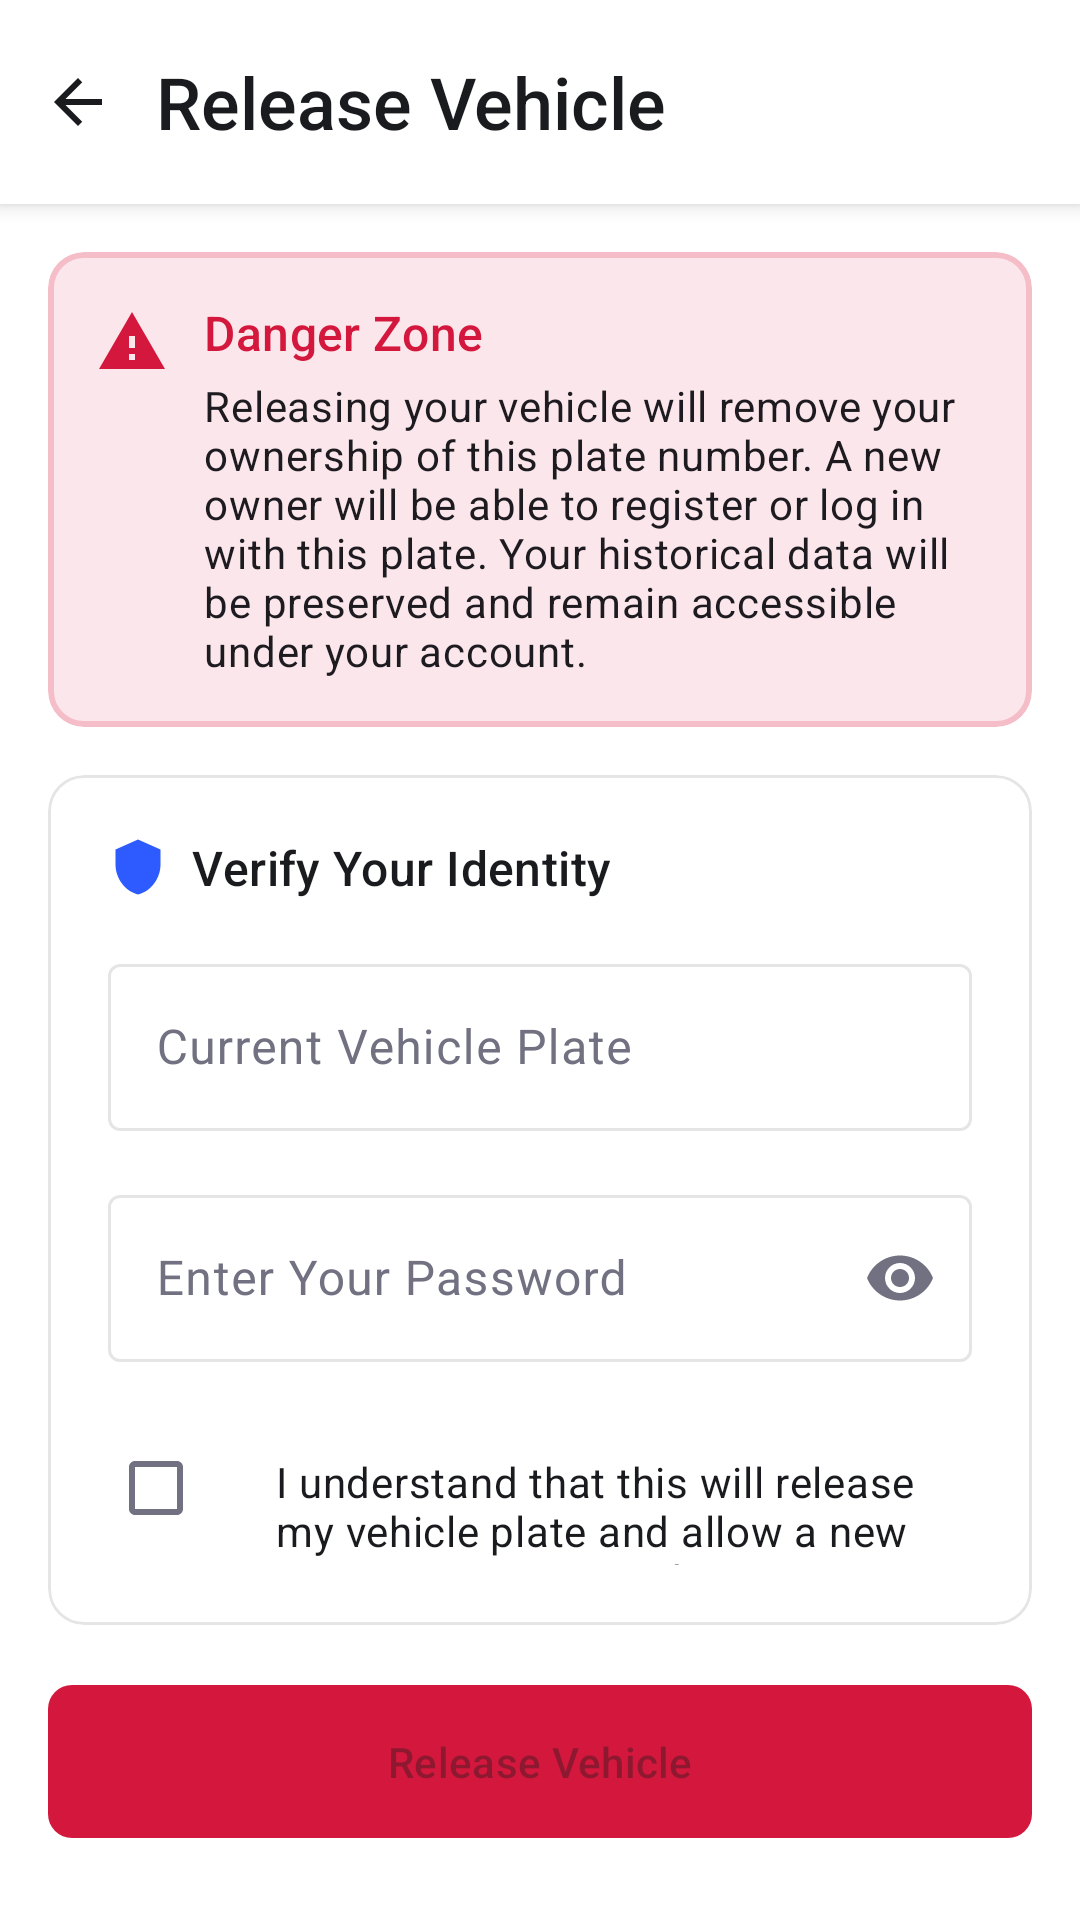

Named icons in this screenshot (1080px×1920px) and their centers, [x,y]:
Back: [78,102]
Shield: [138,867]
